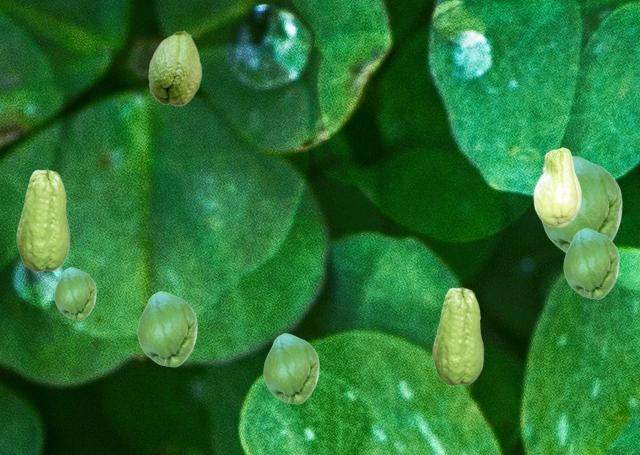sayote: (541, 156, 621, 252), (16, 169, 69, 271), (432, 287, 483, 385), (137, 291, 196, 366), (148, 30, 201, 105), (263, 333, 318, 403), (563, 228, 618, 298), (533, 147, 580, 226), (54, 267, 95, 319)
